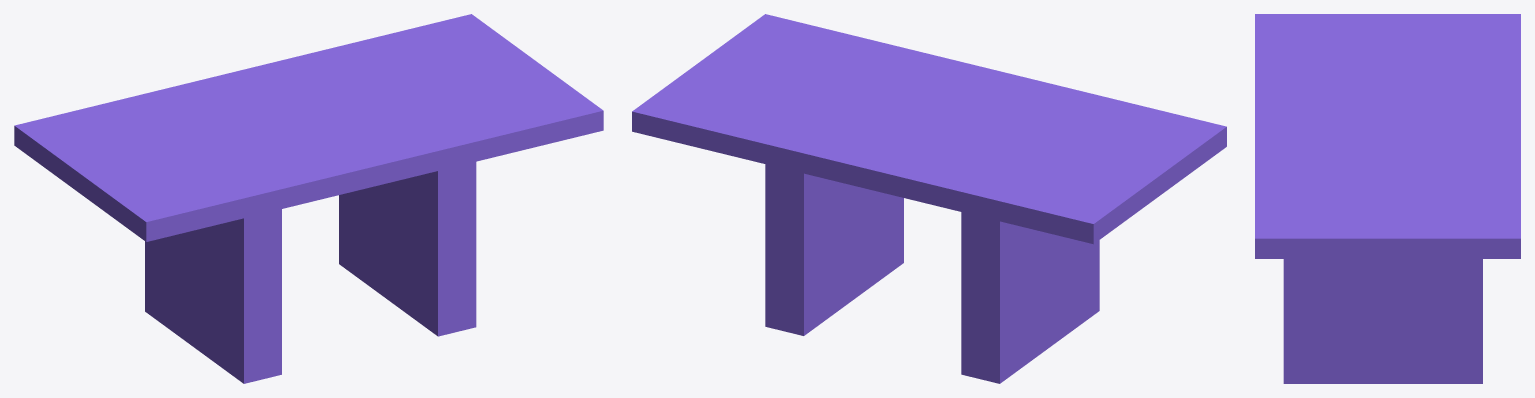
File: Table V2.gltf
The picture shows the model from 3 angles, left to right: view 1: azimuth 30°, elevation 25°; view 2: azimuth 150°, elevation 25°; view 3: azimuth 270°, elevation 25°; orthographic projection.
Parts seen in each view (by area): view 1: cb138f94-4260-4f42-9250-a6ff8acfcb78; view 2: cb138f94-4260-4f42-9250-a6ff8acfcb78; view 3: cb138f94-4260-4f42-9250-a6ff8acfcb78.
Part boxes in pixels (left/top/right/bottom): cb138f94-4260-4f42-9250-a6ff8acfcb78: left=14, top=14, right=603, bottom=383; cb138f94-4260-4f42-9250-a6ff8acfcb78: left=632, top=14, right=1226, bottom=383; cb138f94-4260-4f42-9250-a6ff8acfcb78: left=1255, top=14, right=1520, bottom=383.
Bounding box in the file's own units: 48 × 20 × 24.
